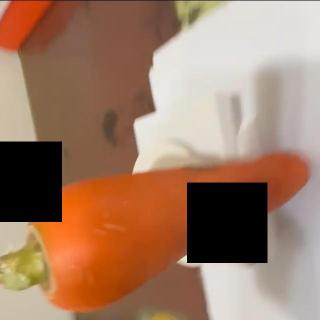carrot: (0, 151, 310, 313)
